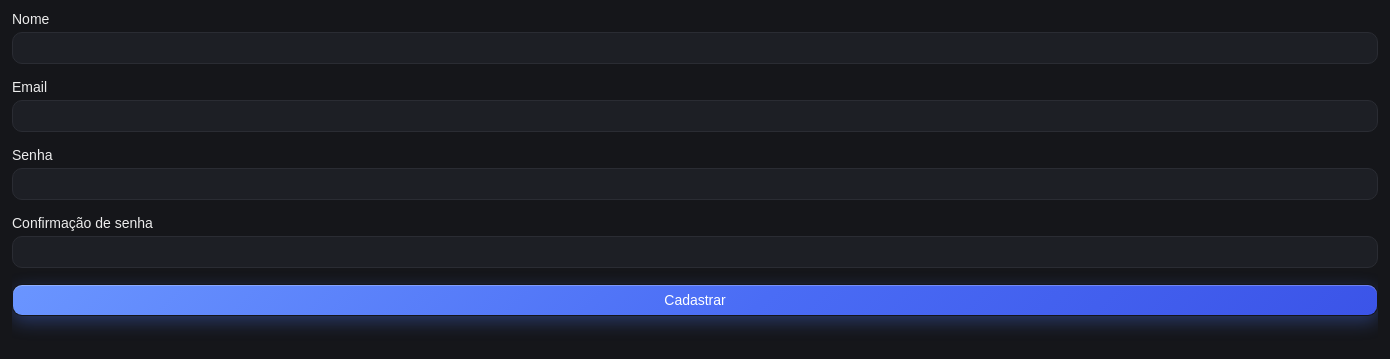
Scenario: CadastroForm › exibe erro de "senha e confirmação não conferem" quando os dois campos divergem
This screenshot has width=1390, height=359.
Type "Lucas" into the field labelled "Nome".
click(695, 48); type("Lucas")  # box [12, 32, 1378, 64]
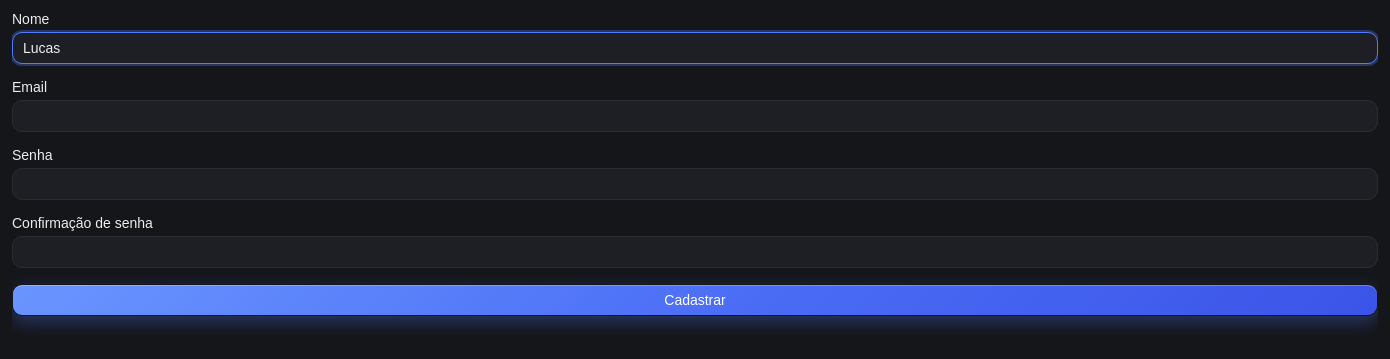
Type "lucas@example.com" into the field labelled "Email".
click(695, 116); type("lucas@example.com")  # box [12, 100, 1378, 132]
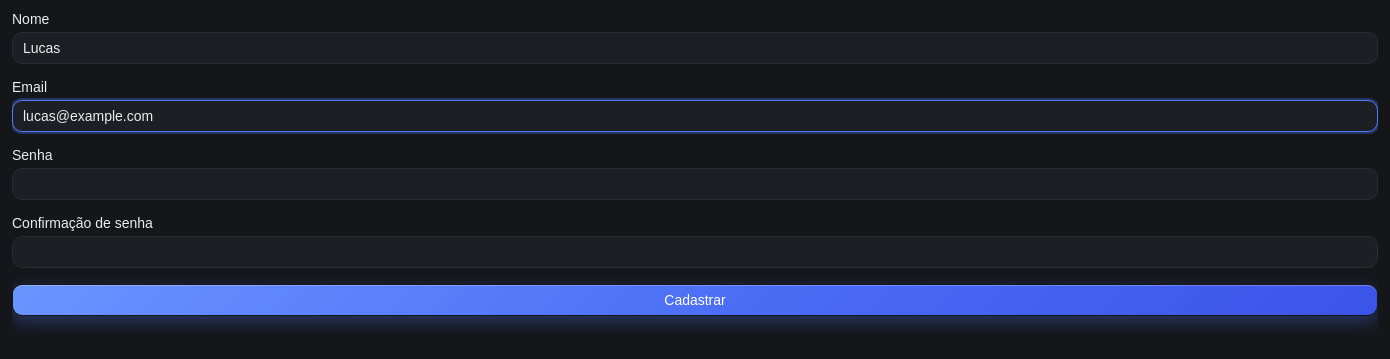
Type "SenhaForte@123" into the password field labelled "Senha".
click(695, 184); type("SenhaForte@123")  # box [12, 168, 1378, 200]
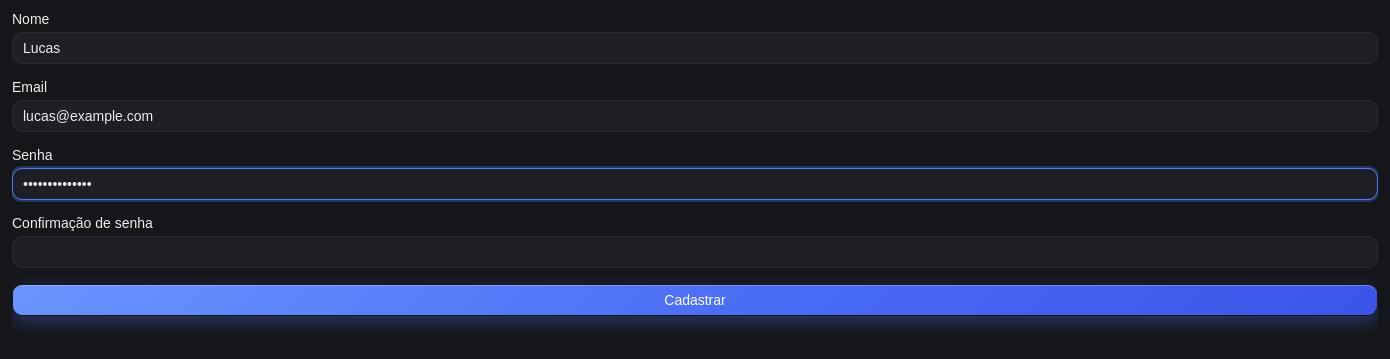
Type "OutraSenha@456" into the password field labelled "Confirmação de senha".
click(695, 252); type("OutraSenha@456")  # box [12, 236, 1378, 268]
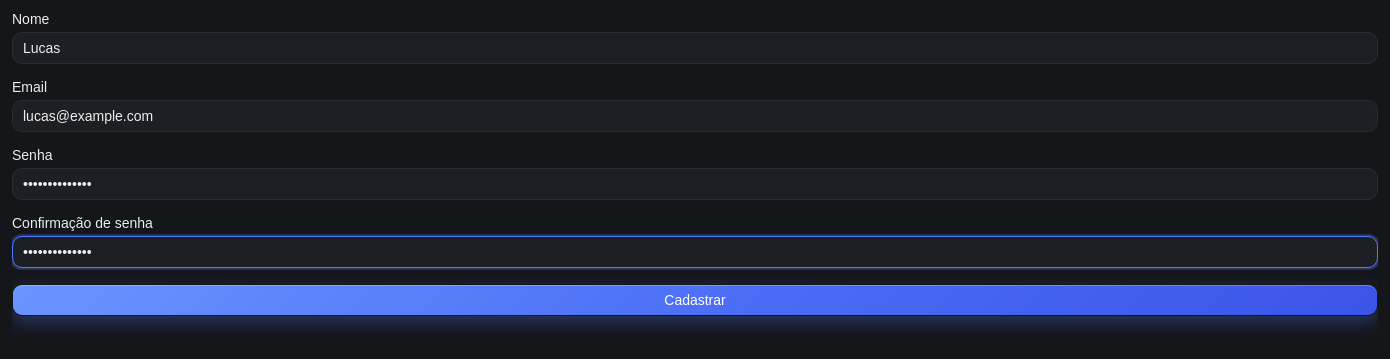
Click the button "Cadastrar".
click(695, 300)  # box [12, 284, 1378, 316]
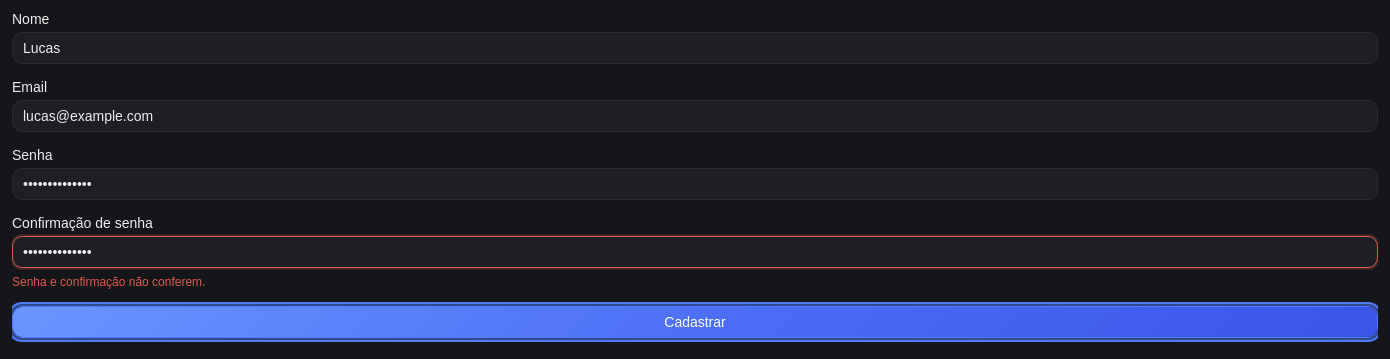
Now the text "Senha e confirmação não conferem." is shown, box [12, 275, 206, 289]
